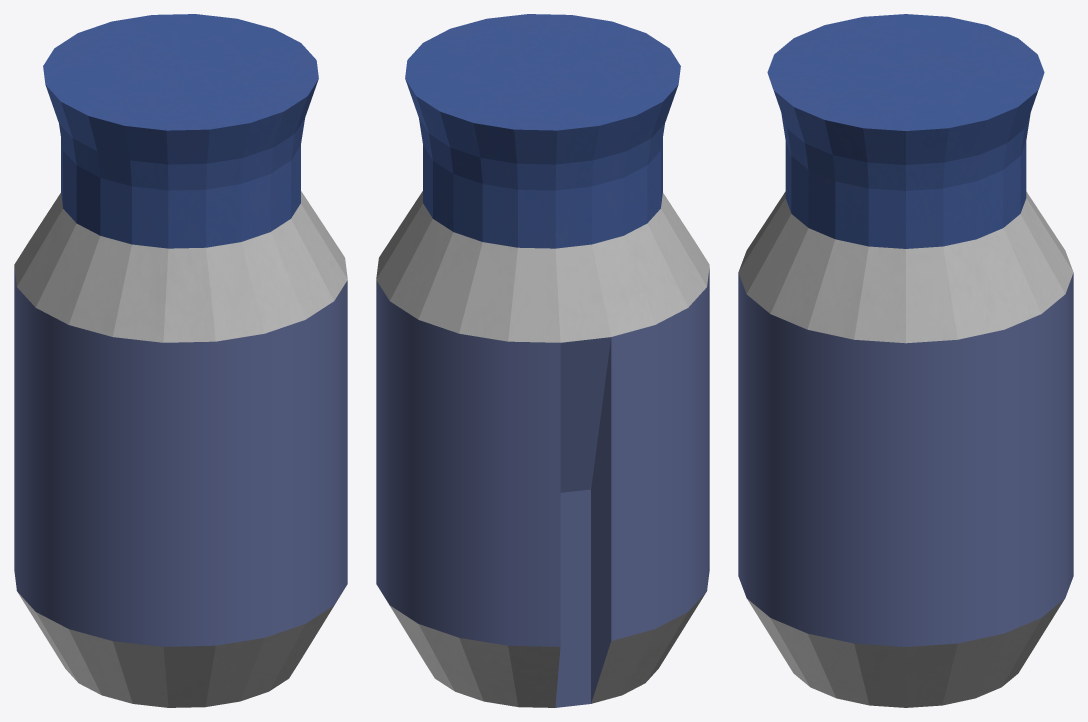
Rendered from SauceBottle_1.fbx.
3 views of the same model, side by side, from view 1: azimuth 30°, elevation 25°; view 2: azimuth 150°, elevation 25°; view 3: azimuth 270°, elevation 25° (orthographic).
Visible parts, largest first — view 1: pCylinder74; view 2: pCylinder74; view 3: pCylinder74.
Boxes of the visible parts, x1,y1,x2,y2 form: pCylinder74: [14, 14, 347, 707]; pCylinder74: [376, 14, 709, 707]; pCylinder74: [738, 14, 1073, 707].
Bounding box in the file's own units: 0.0802 × 0.1546 × 0.0802.
